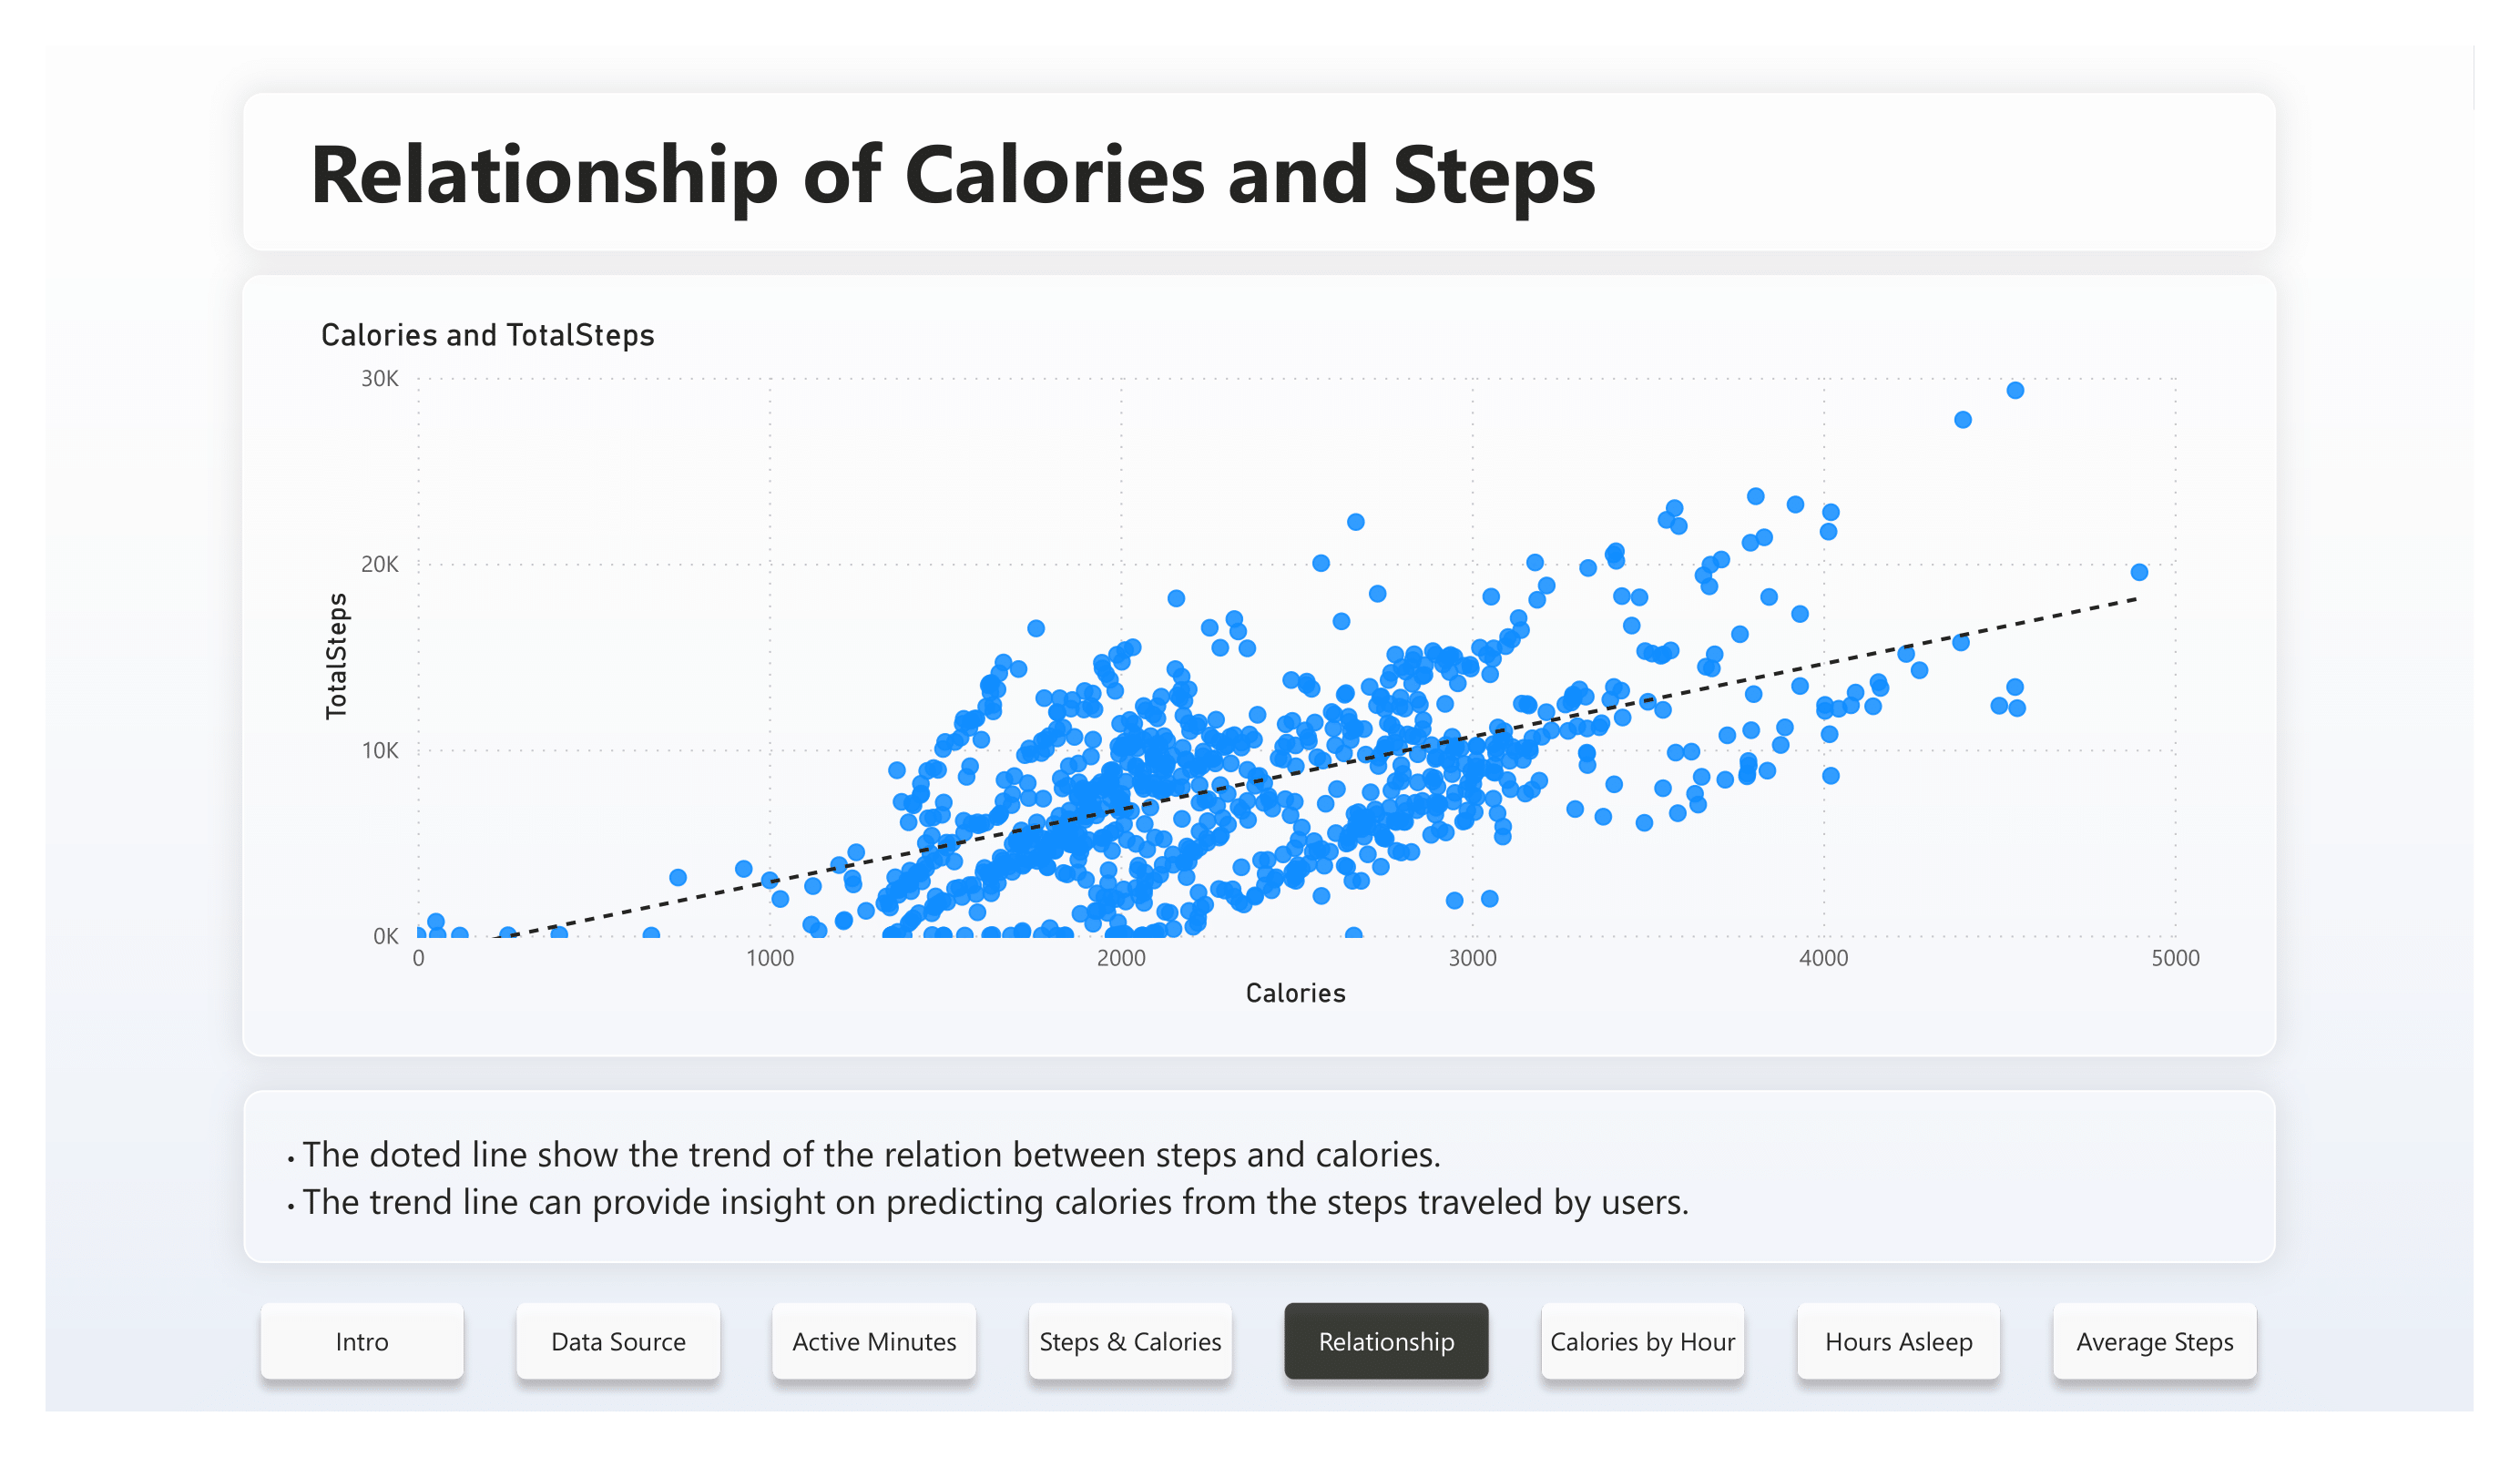

The dashboard page shown, as its layout file describes it:
{"tool":"powerbi","page":{"name":"Relationship","canvas":[1280,720],"ordinal":4},"visuals":[{"type":"shape","box":[103.6,120.7,1072.1,412.1],"z":0},{"type":"shape","box":[104.3,25,1071.4,82.9],"z":1000},{"type":"pageNavigator","box":[104.3,653.6,1071.4,58.6],"z":2000},{"type":"textbox","box":[133.3,31.7,794.2,69.2],"z":3000},{"type":"shape","box":[104.3,550.7,1071.4,91.4],"z":4000},{"type":"scatterChart","fields":{"X":["dailyActivity_merged.Calories"],"Y":["dailyActivity_merged.TotalSteps"]},"box":[140,142.1,1000,370],"z":5000},{"type":"textbox","box":[112.1,565.7,1055,61.4],"z":6000}]}

Visuals, with their boxes on the page's 1280x720 design canvas (x1, y1, x2, y2). These are canvas units, not pixel positions in the 2520x1457 screenshot, which may show the page scaled, cropped or inside an application window:
shape: rect(104, 121, 1176, 533)
shape: rect(104, 25, 1176, 108)
pageNavigator: rect(104, 654, 1176, 712)
textbox: rect(133, 32, 928, 101)
shape: rect(104, 551, 1176, 642)
scatterChart - dailyActivity_merged.Calories x dailyActivity_merged.TotalSteps: rect(140, 142, 1140, 512)
textbox: rect(112, 566, 1167, 627)
